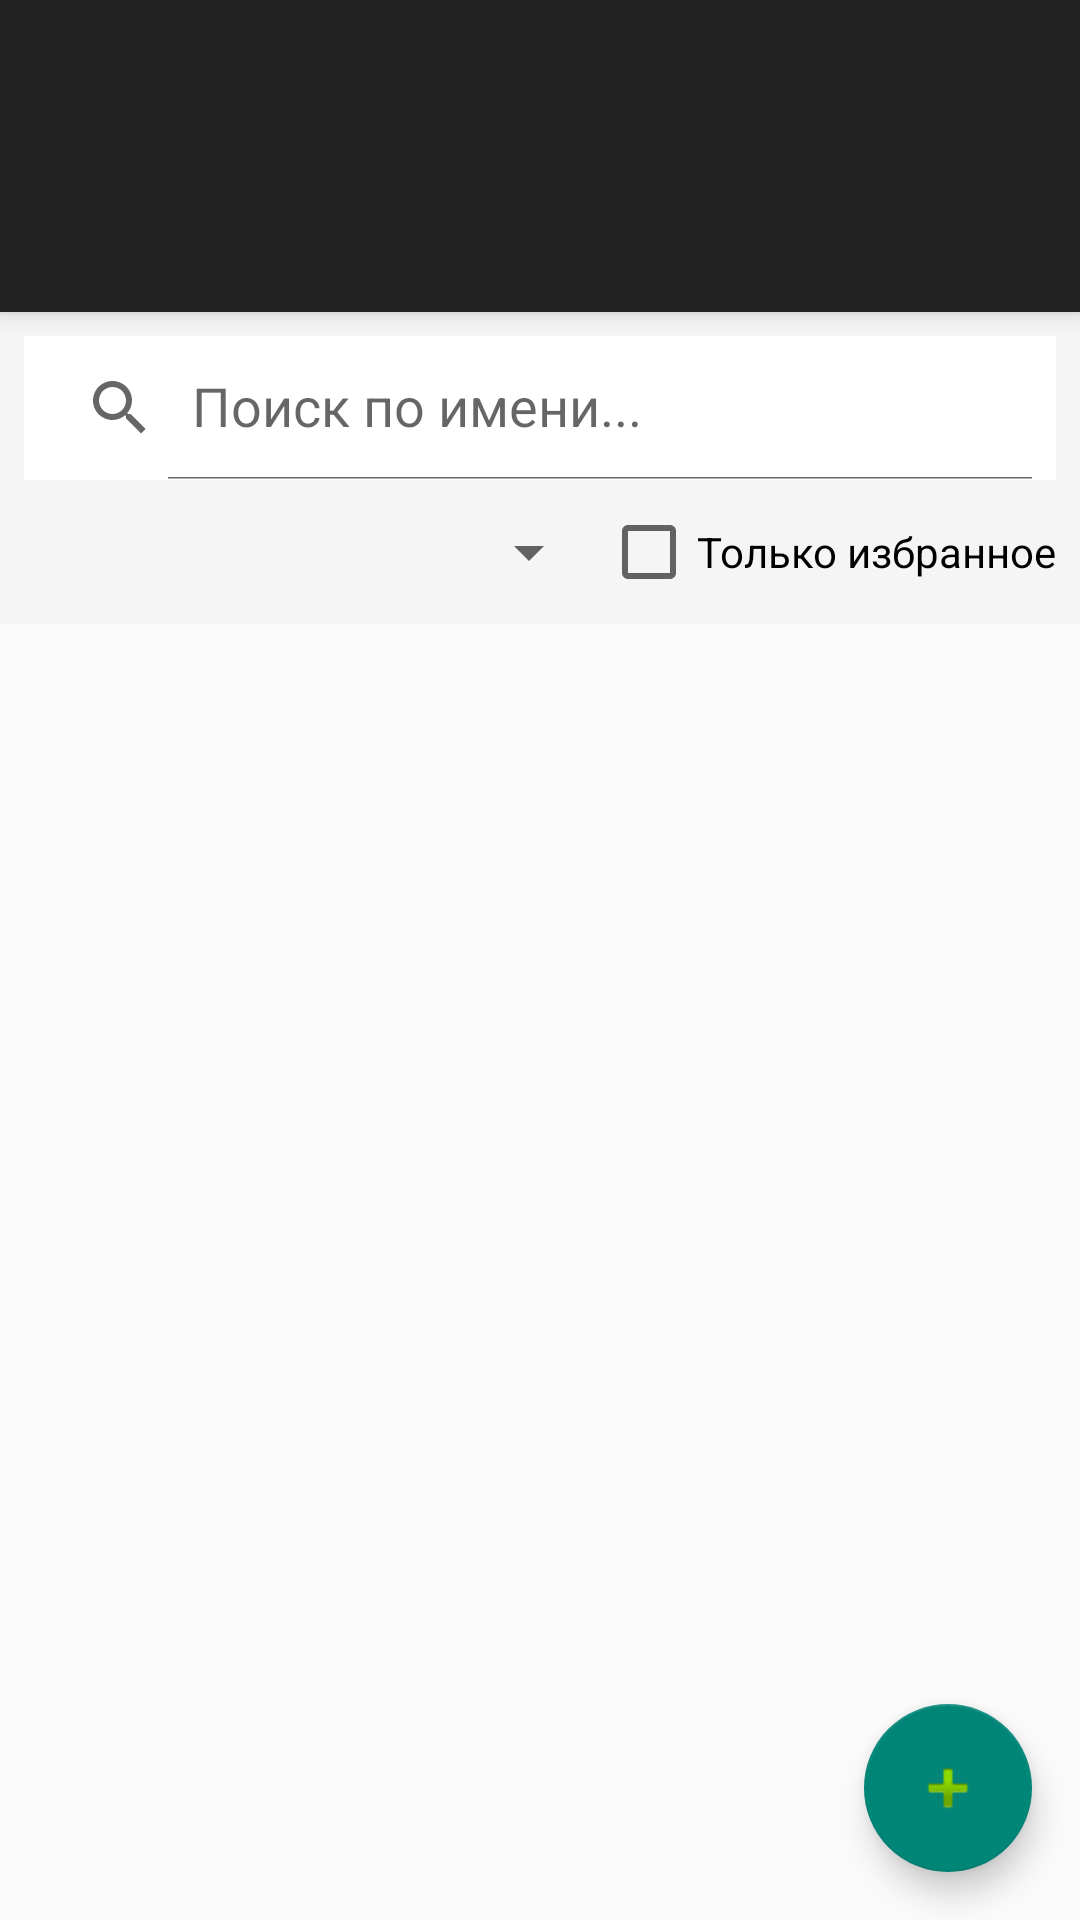

Where icons sit on this 1080x1920 app screen, as (x1,y1,x2,y2):
Добавить тег: (864,1704,1032,1872)
